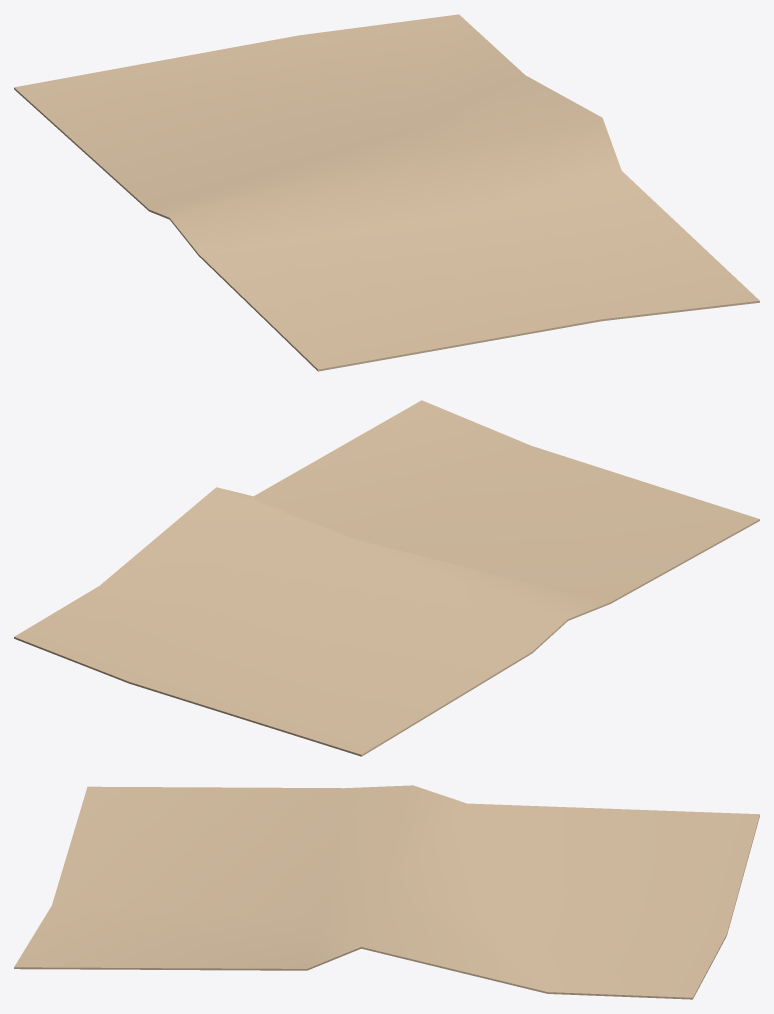
Rendered from paperSingle.fbx.
3 views of the same model, one above another, from view 1: azimuth 30°, elevation 25°; view 2: azimuth 150°, elevation 25°; view 3: azimuth 270°, elevation 25° (orthographic). The views are drawn at different scales.
Visible parts, largest first — view 1: paperToSlide; view 2: paperToSlide; view 3: paperToSlide.
Part boxes in pixels (x1,y1,x2,y2): paperToSlide: [14, 14, 759, 371]; paperToSlide: [14, 400, 759, 756]; paperToSlide: [14, 785, 759, 999].
Size of the model in its own units: 2.01 by 0.1779 by 3.
1 material, 1 textured.
